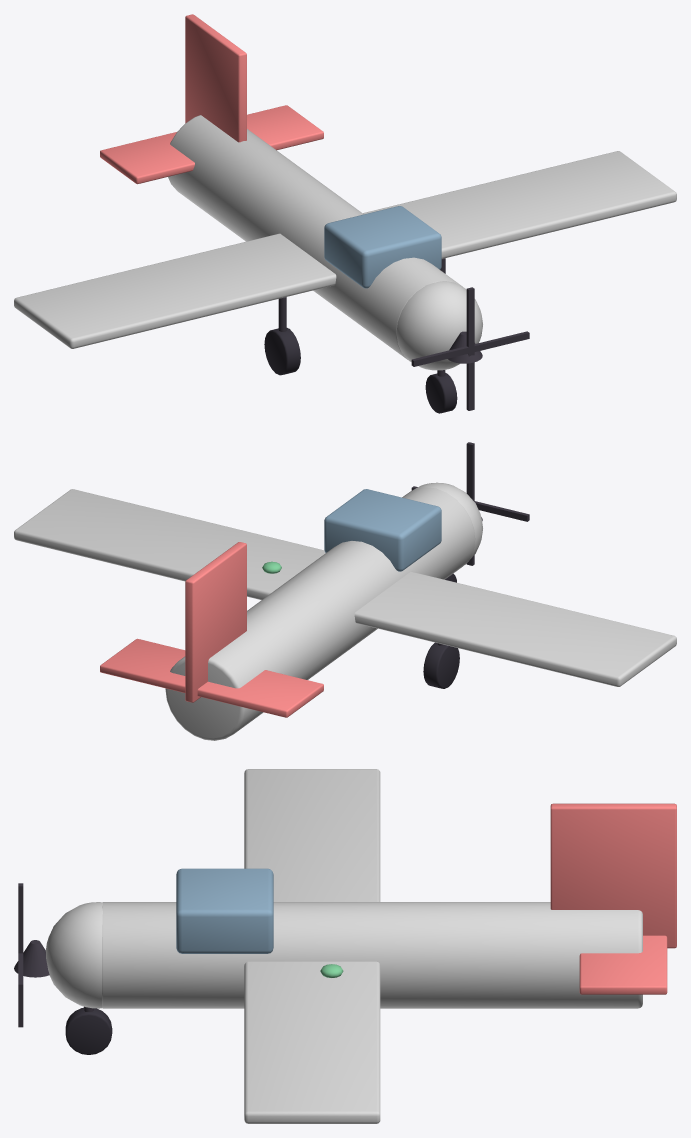
File: plane_small.glb
3 views of the same model, one above another, from view 1: azimuth 30°, elevation 25°; view 2: azimuth 150°, elevation 25°; view 3: azimuth 270°, elevation 25° (orthographic). The views are drawn at different scales.
Parts seen in each view (by area): view 1: plane_small; view 2: plane_small; view 3: plane_small.
Part boxes in pixels (box(x1,y1,x2,y2)): plane_small: box(14, 14, 676, 413); plane_small: box(14, 442, 676, 740); plane_small: box(14, 769, 676, 1123).
Size of the model in its own units: 8.4 by 2.8 by 6.82.
